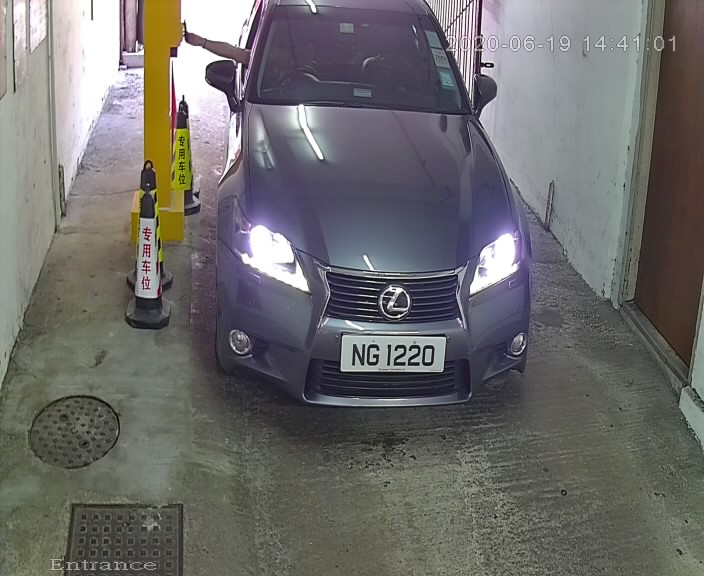privatecar: (206, 3, 548, 440)
